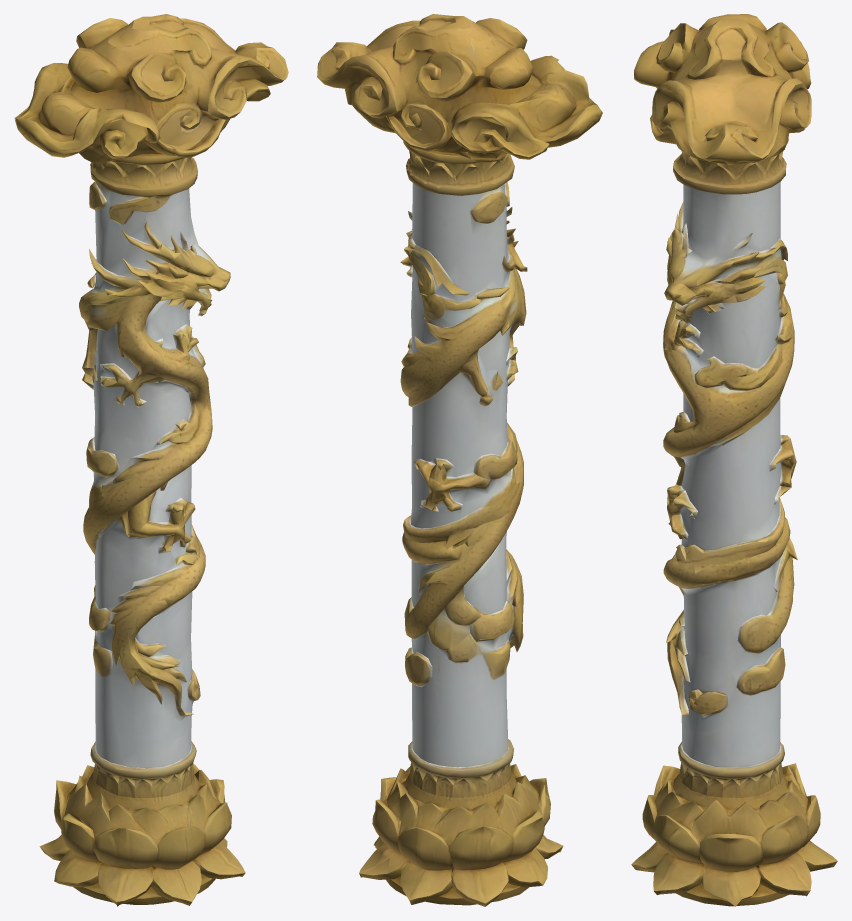
Rendered from jadepillar.glb.
The picture shows the model from 3 angles, left to right: view 1: azimuth 30°, elevation 25°; view 2: azimuth 150°, elevation 25°; view 3: azimuth 270°, elevation 25°; orthographic projection.
Visible parts, largest first — view 1: model; view 2: model; view 3: model.
Boxes of the visible parts, x1,y1,x2,y2 form: model: (14, 14, 288, 906); model: (317, 14, 602, 906); model: (631, 14, 837, 906).
Size of the model in its own units: 0.6051 by 1.9 by 0.4176.
1 material, 1 textured.
